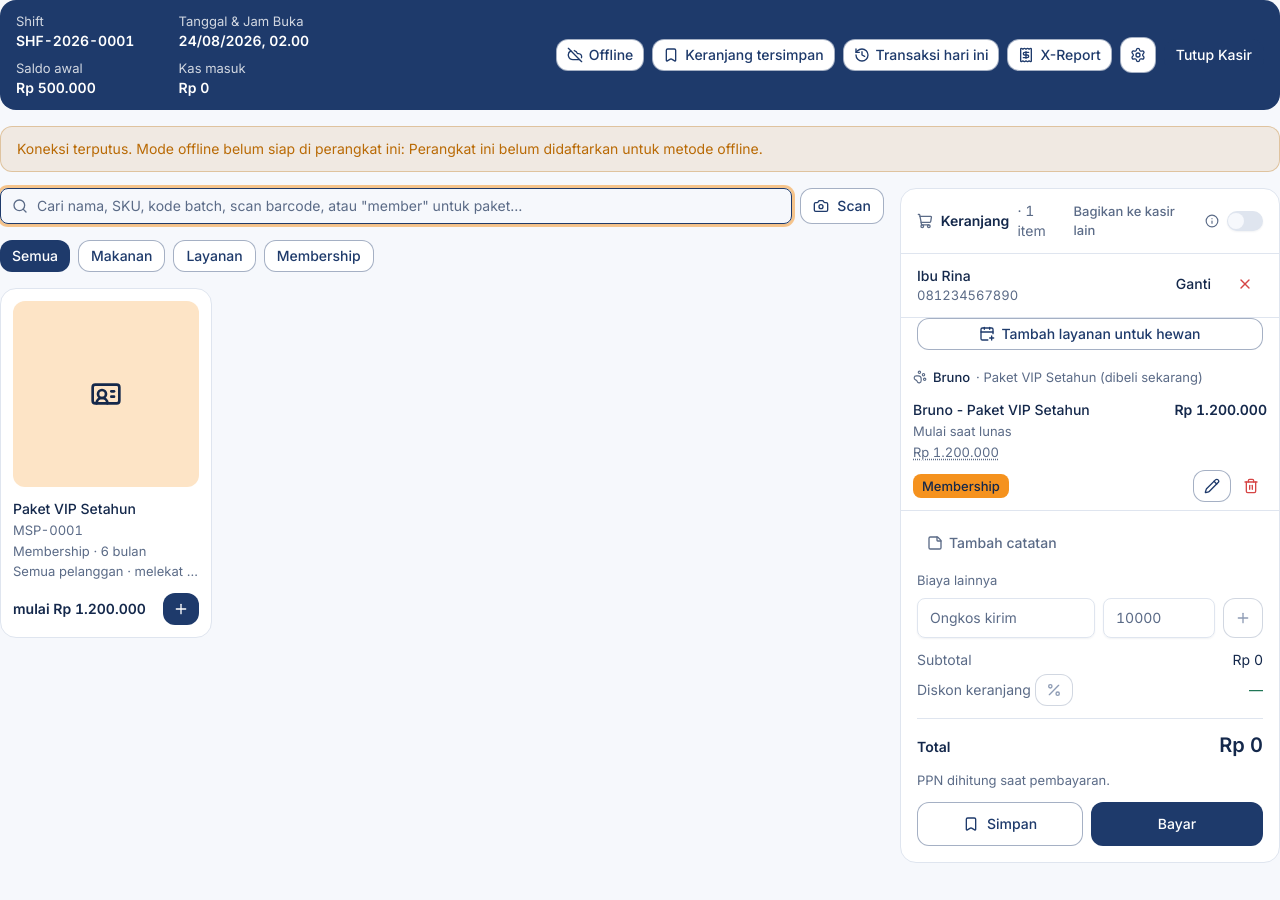
Test case: who may buy › refuses a second package for an animal already in the basket
Expected: the text "· Paket VIP Setahun (dibeli sekarang)" is shown, [976,368,1203,386]
Click the button named "tambah paket vip setahun". click: (181, 609)
box: [163,593,199,625]
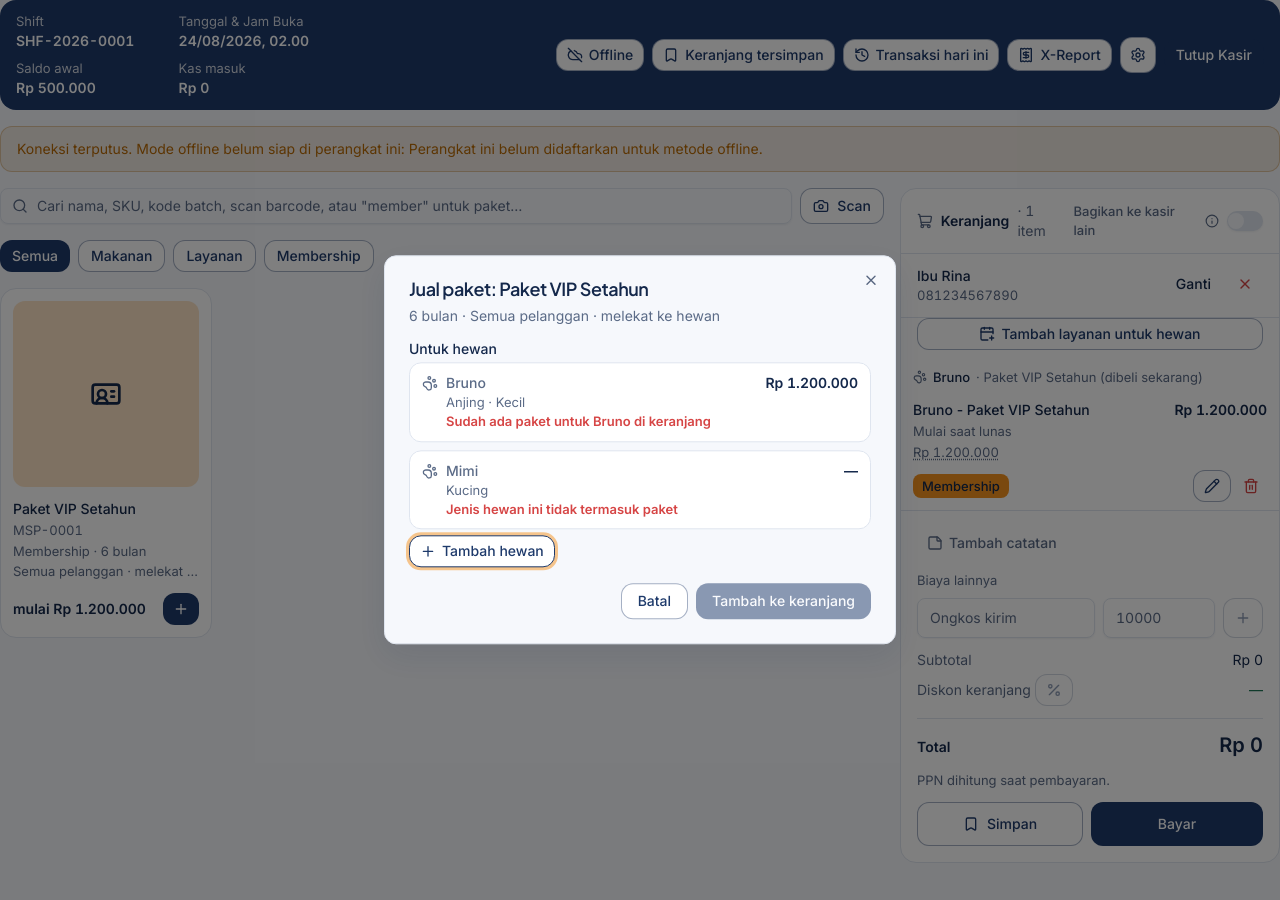
Result: the text "Sudah ada paket untuk Bruno di keranjang" is shown at [446,412,711,431]
Result: the radio button labelled "Bruno" is disabled at [409,362,871,442]
